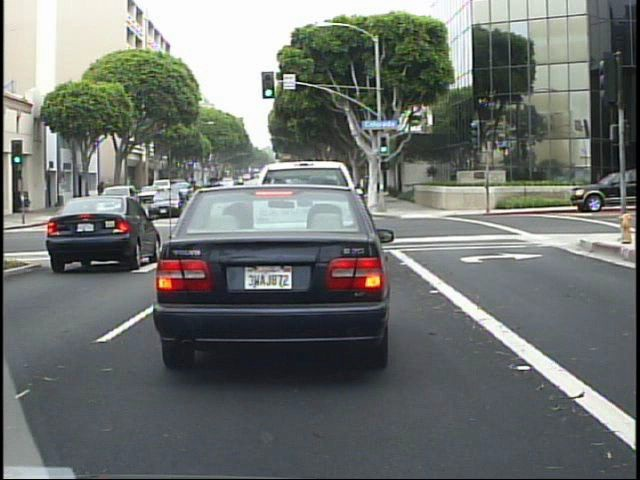person: (95, 176, 110, 210)
